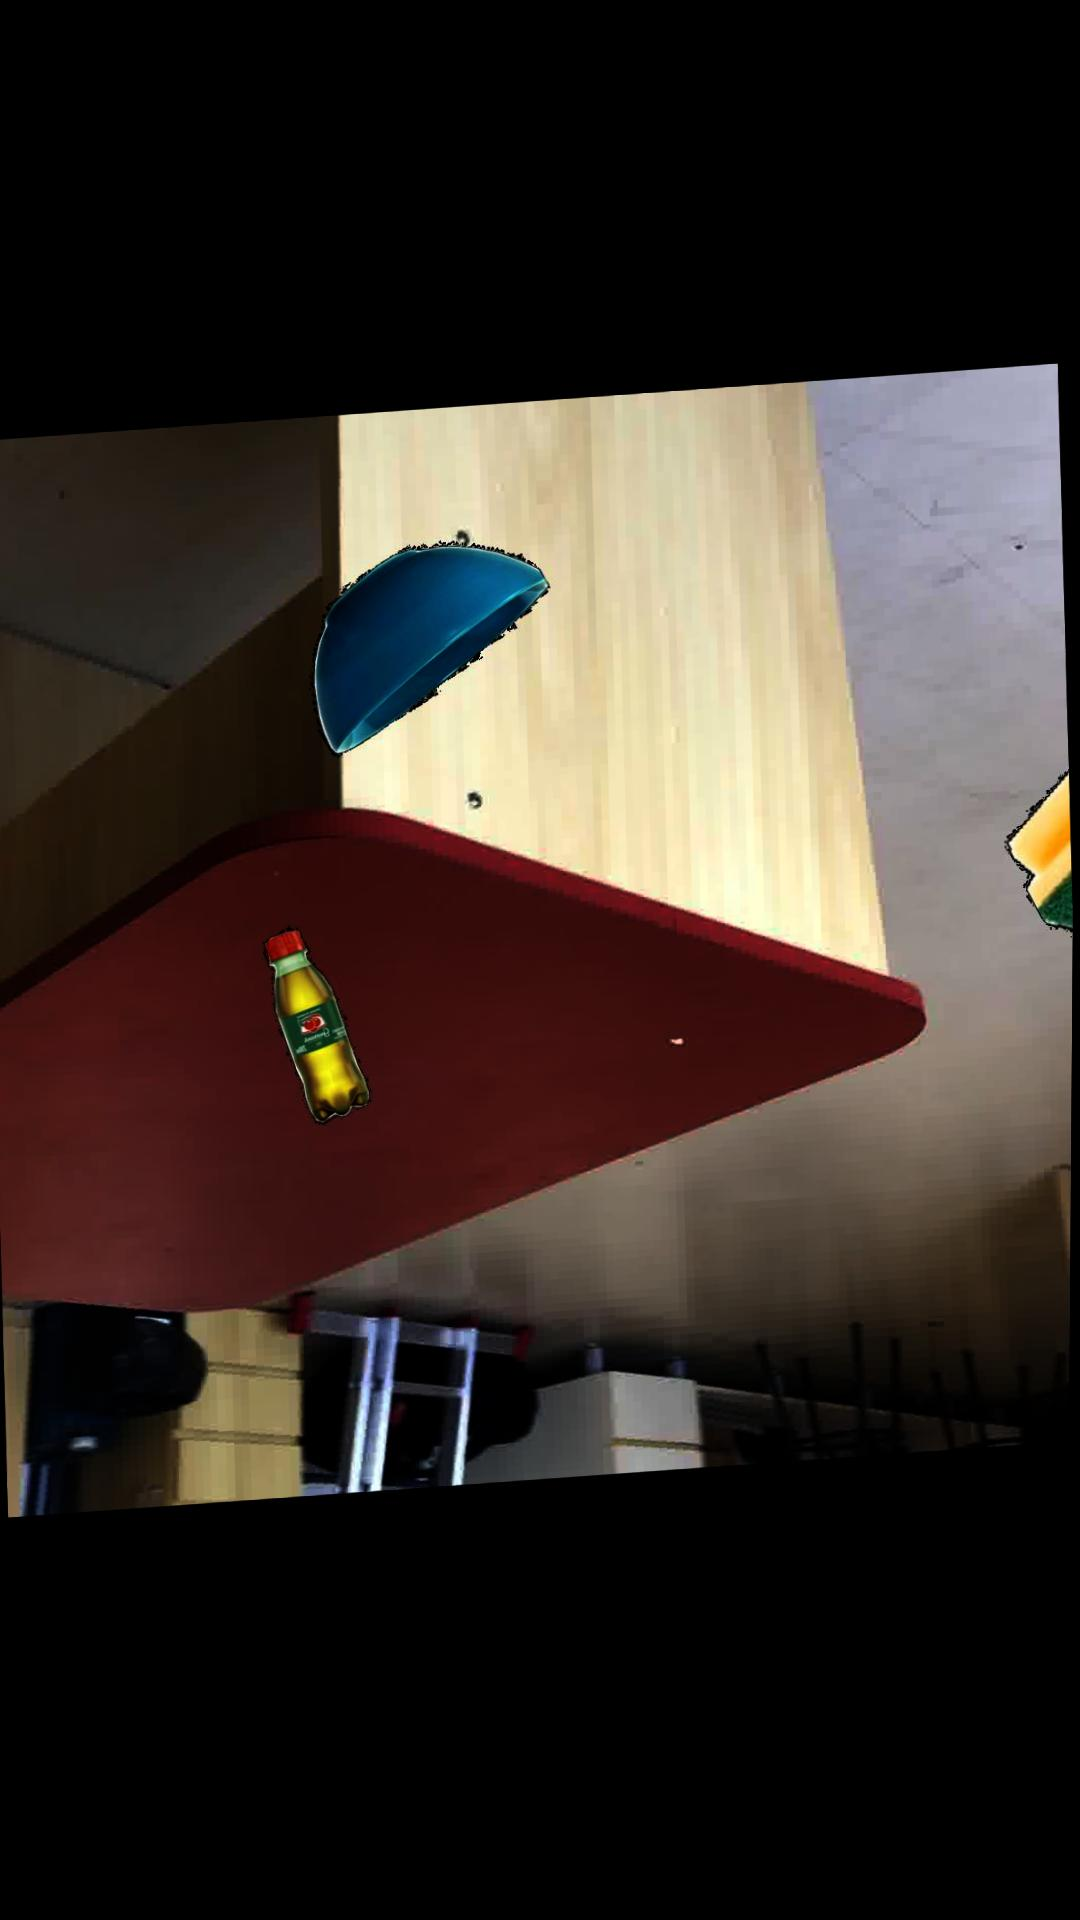bowl: (313, 542, 553, 757)
guarana: (265, 926, 373, 1124)
